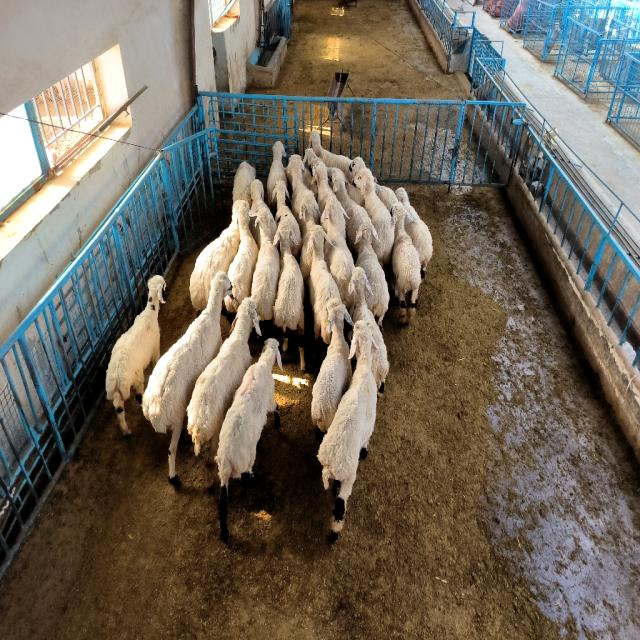sheep: (142, 272, 231, 481), (215, 338, 282, 541), (318, 320, 378, 540), (188, 297, 261, 455), (106, 275, 166, 436), (311, 298, 352, 432), (190, 208, 240, 312), (349, 267, 389, 391), (274, 218, 305, 369), (355, 168, 394, 266), (225, 200, 259, 312), (308, 225, 340, 343), (355, 217, 389, 328), (321, 197, 354, 311), (391, 202, 421, 322), (395, 188, 432, 278), (251, 208, 280, 320), (309, 130, 354, 182), (274, 180, 301, 257), (288, 155, 311, 221), (266, 140, 288, 206), (249, 180, 269, 248), (312, 158, 335, 212), (232, 162, 256, 204), (372, 177, 398, 211), (350, 157, 366, 187)
